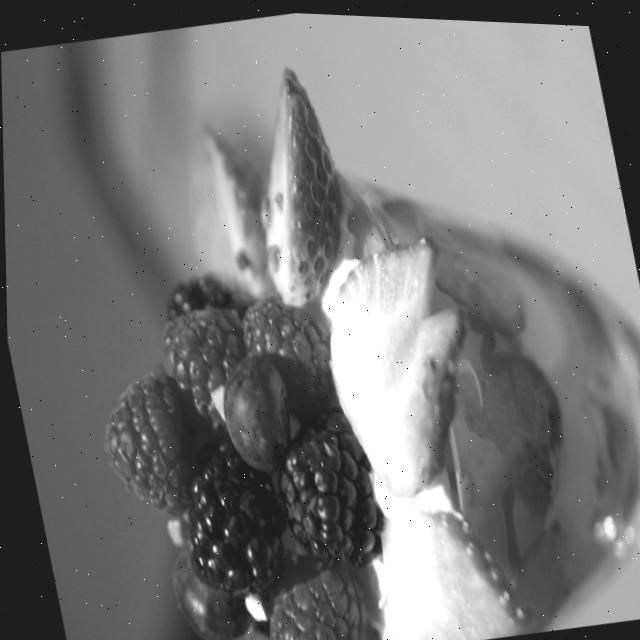蛋糕甜品: (27, 21, 640, 640)
